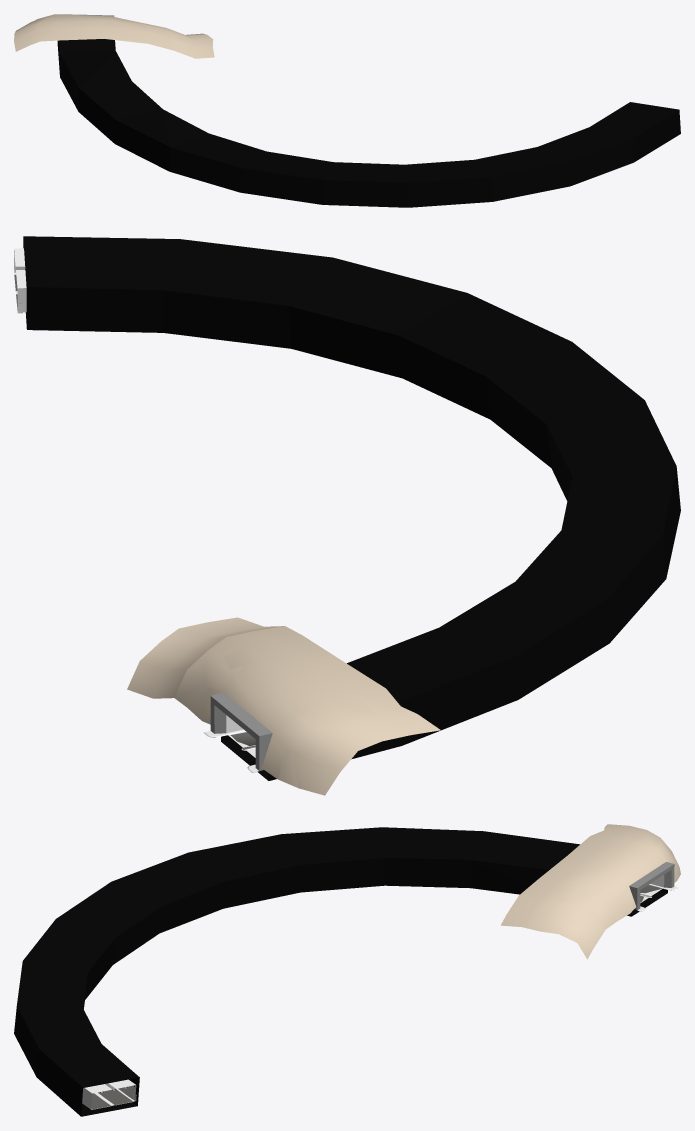
File: tunnel_NEc.dae
3 views of the same model, one above another, from view 1: azimuth 30°, elevation 25°; view 2: azimuth 150°, elevation 25°; view 3: azimuth 270°, elevation 25° (orthographic). The views are drawn at different scales.
Visible parts, largest first — view 1: tunnel_NEc_a2000, tunnel_NEc_a1000; view 2: tunnel_NEc_a1000, tunnel_NEc_a2000; view 3: tunnel_NEc_a2000, tunnel_NEc_a1000.
Boxes of the visible parts, left/top/right/bottom form: tunnel_NEc_a2000: left=14, top=14, right=408, bottom=207; tunnel_NEc_a1000: left=14, top=14, right=680, bottom=207; tunnel_NEc_a1000: left=23, top=236, right=571, bottom=787; tunnel_NEc_a2000: left=14, top=248, right=680, bottom=795; tunnel_NEc_a2000: left=56, top=824, right=680, bottom=1109; tunnel_NEc_a1000: left=14, top=825, right=680, bottom=1116.
Size of the model in its own units: 208 by 226 by 19.12.
